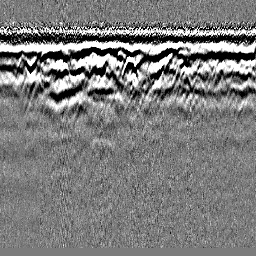cavity: (120, 55, 138, 79)
